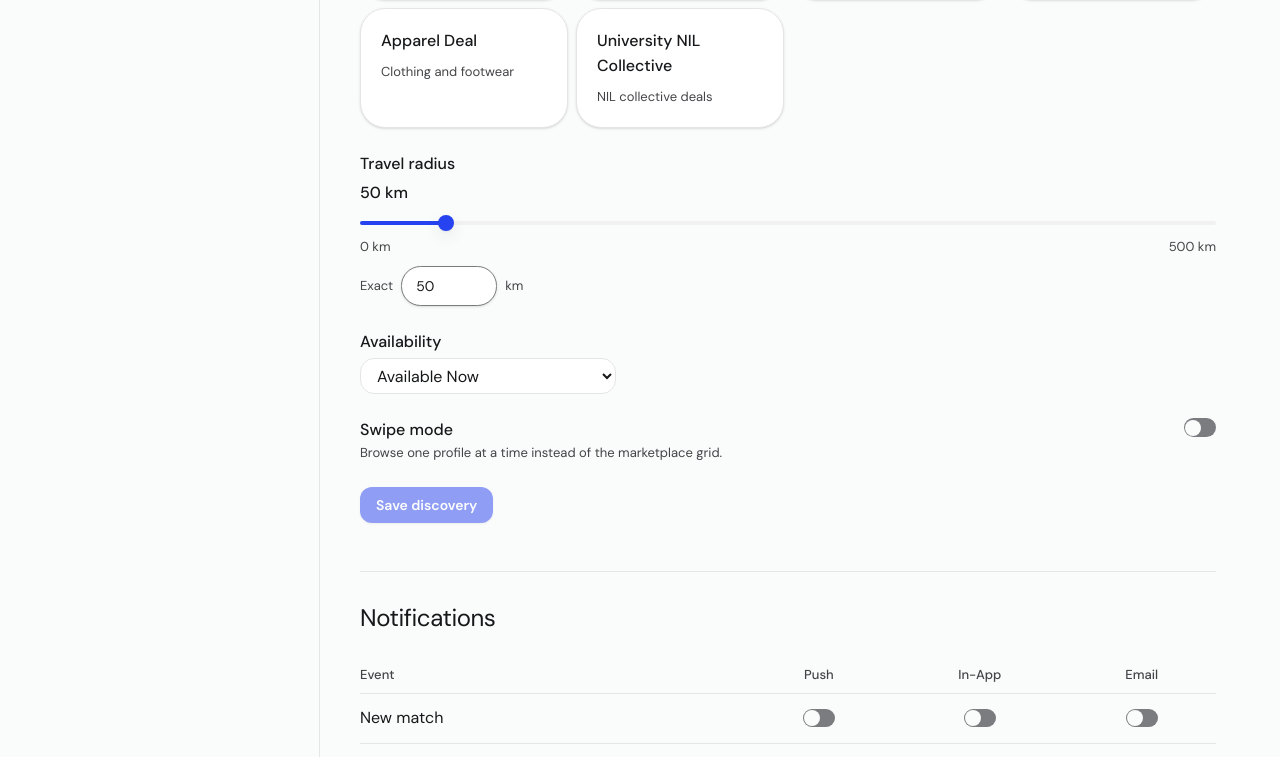
Test: SettingsForm › reveals an availability date picker only when "Available From" is chosen
(page scrolled)
Expected: the field labelled "available from date" is not shown
Select "Available From" in the dropdown labelled "Availability" at (488, 376), box [360,358,616,394]
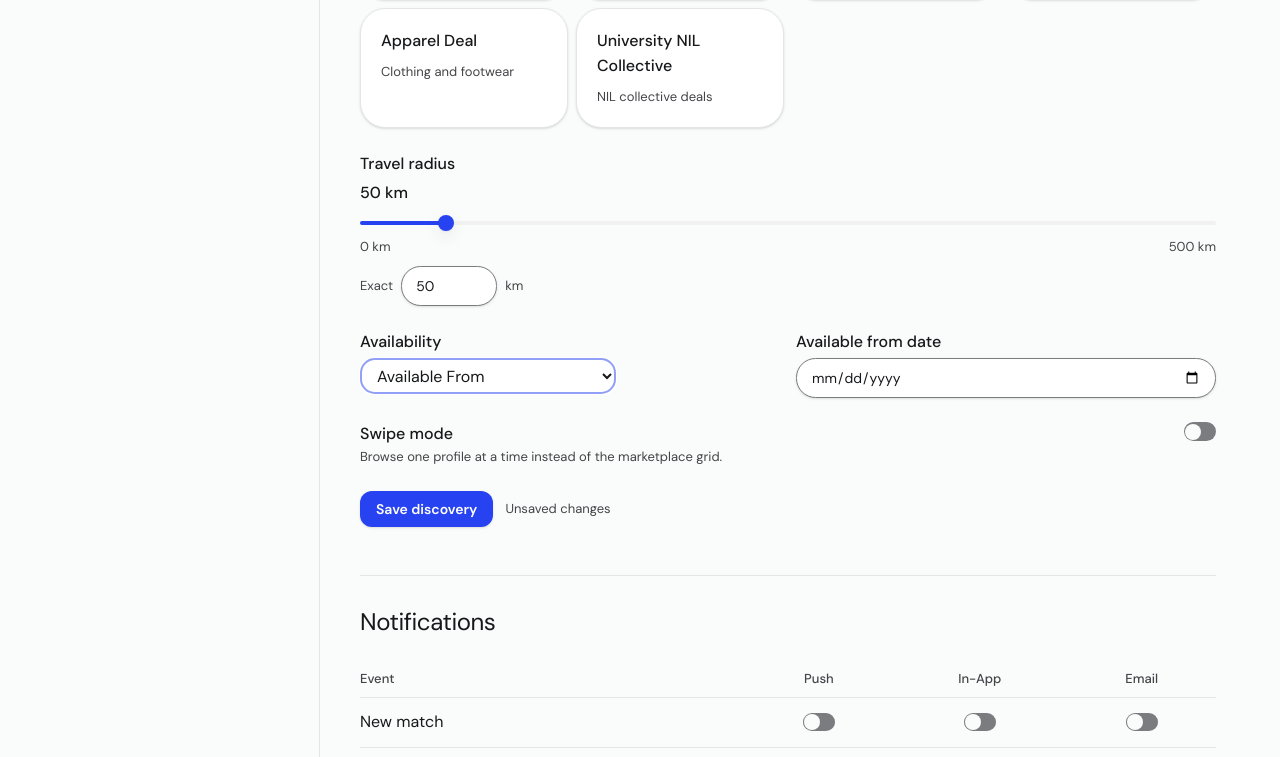
Expected: the date field labelled "Available from date" is shown, [796,358,1216,398]
